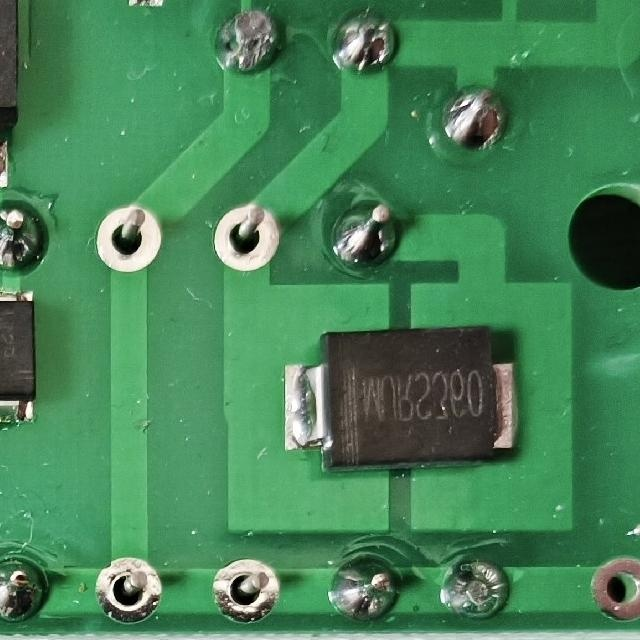diode: (277, 320, 523, 476)
